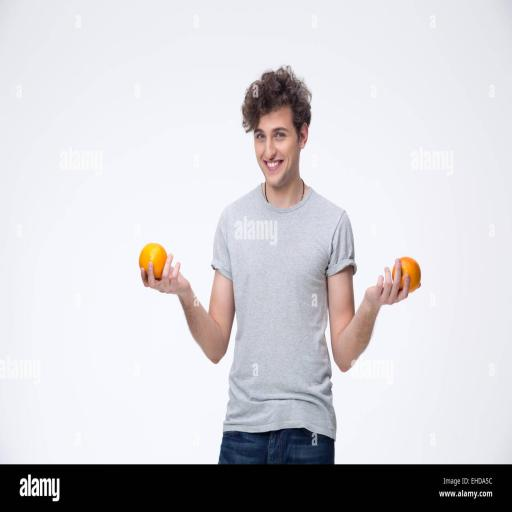orange: (139, 244, 167, 278), (399, 257, 421, 292)
